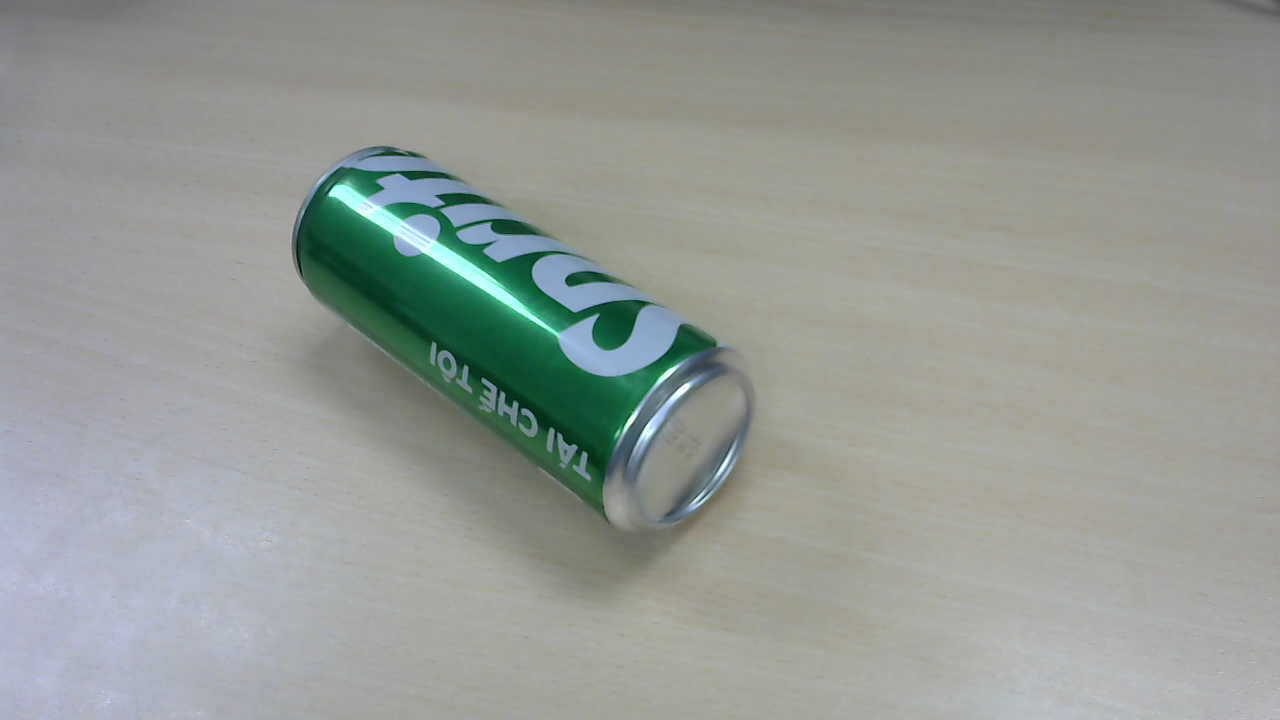Sprite: (271, 136, 787, 551)
